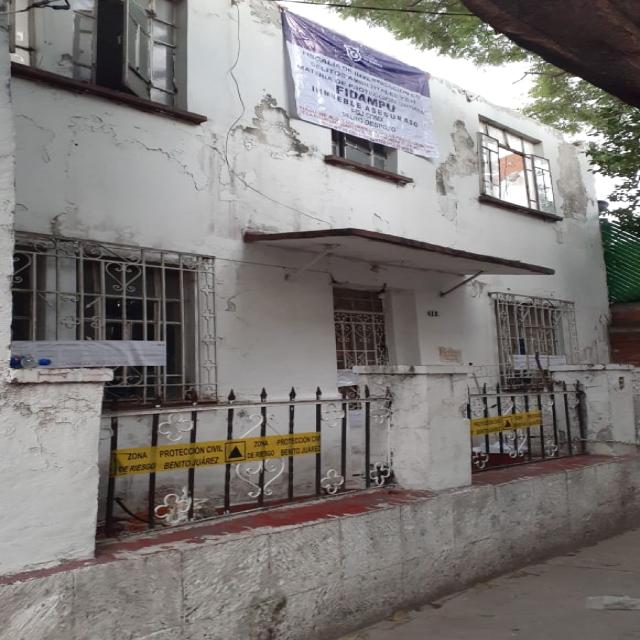stamps: (285, 11, 435, 158), (14, 342, 165, 367)
